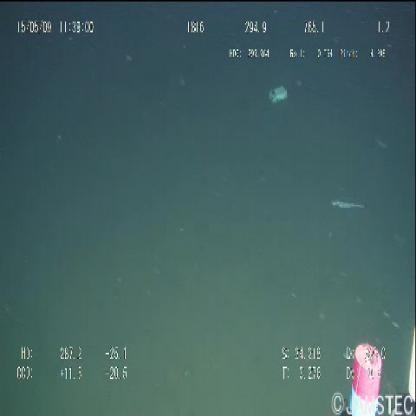Rác: (269, 87, 289, 104)
